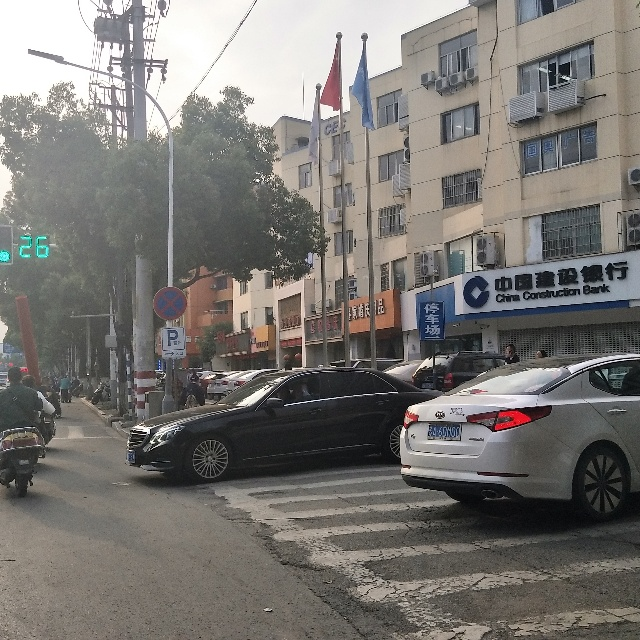stop: (156, 287, 186, 319)
